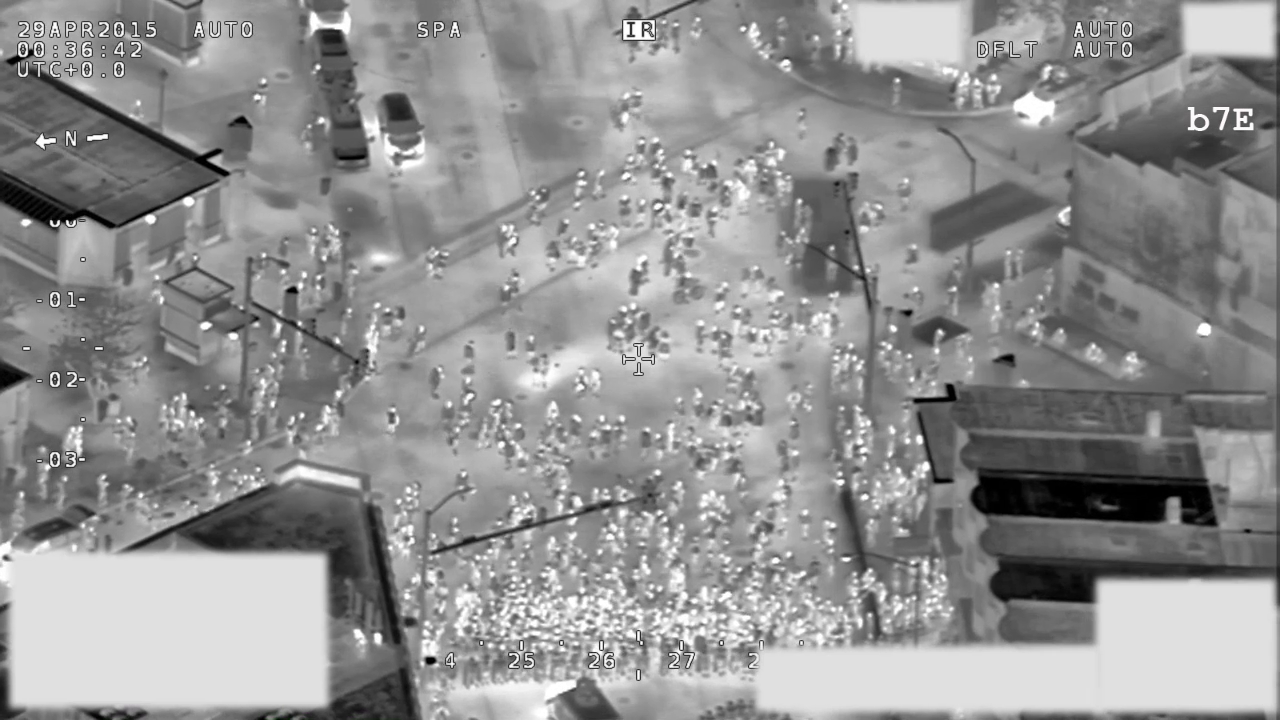vehicle: (1008, 63, 1098, 131), (371, 80, 434, 170), (319, 80, 378, 173), (308, 27, 361, 99)
